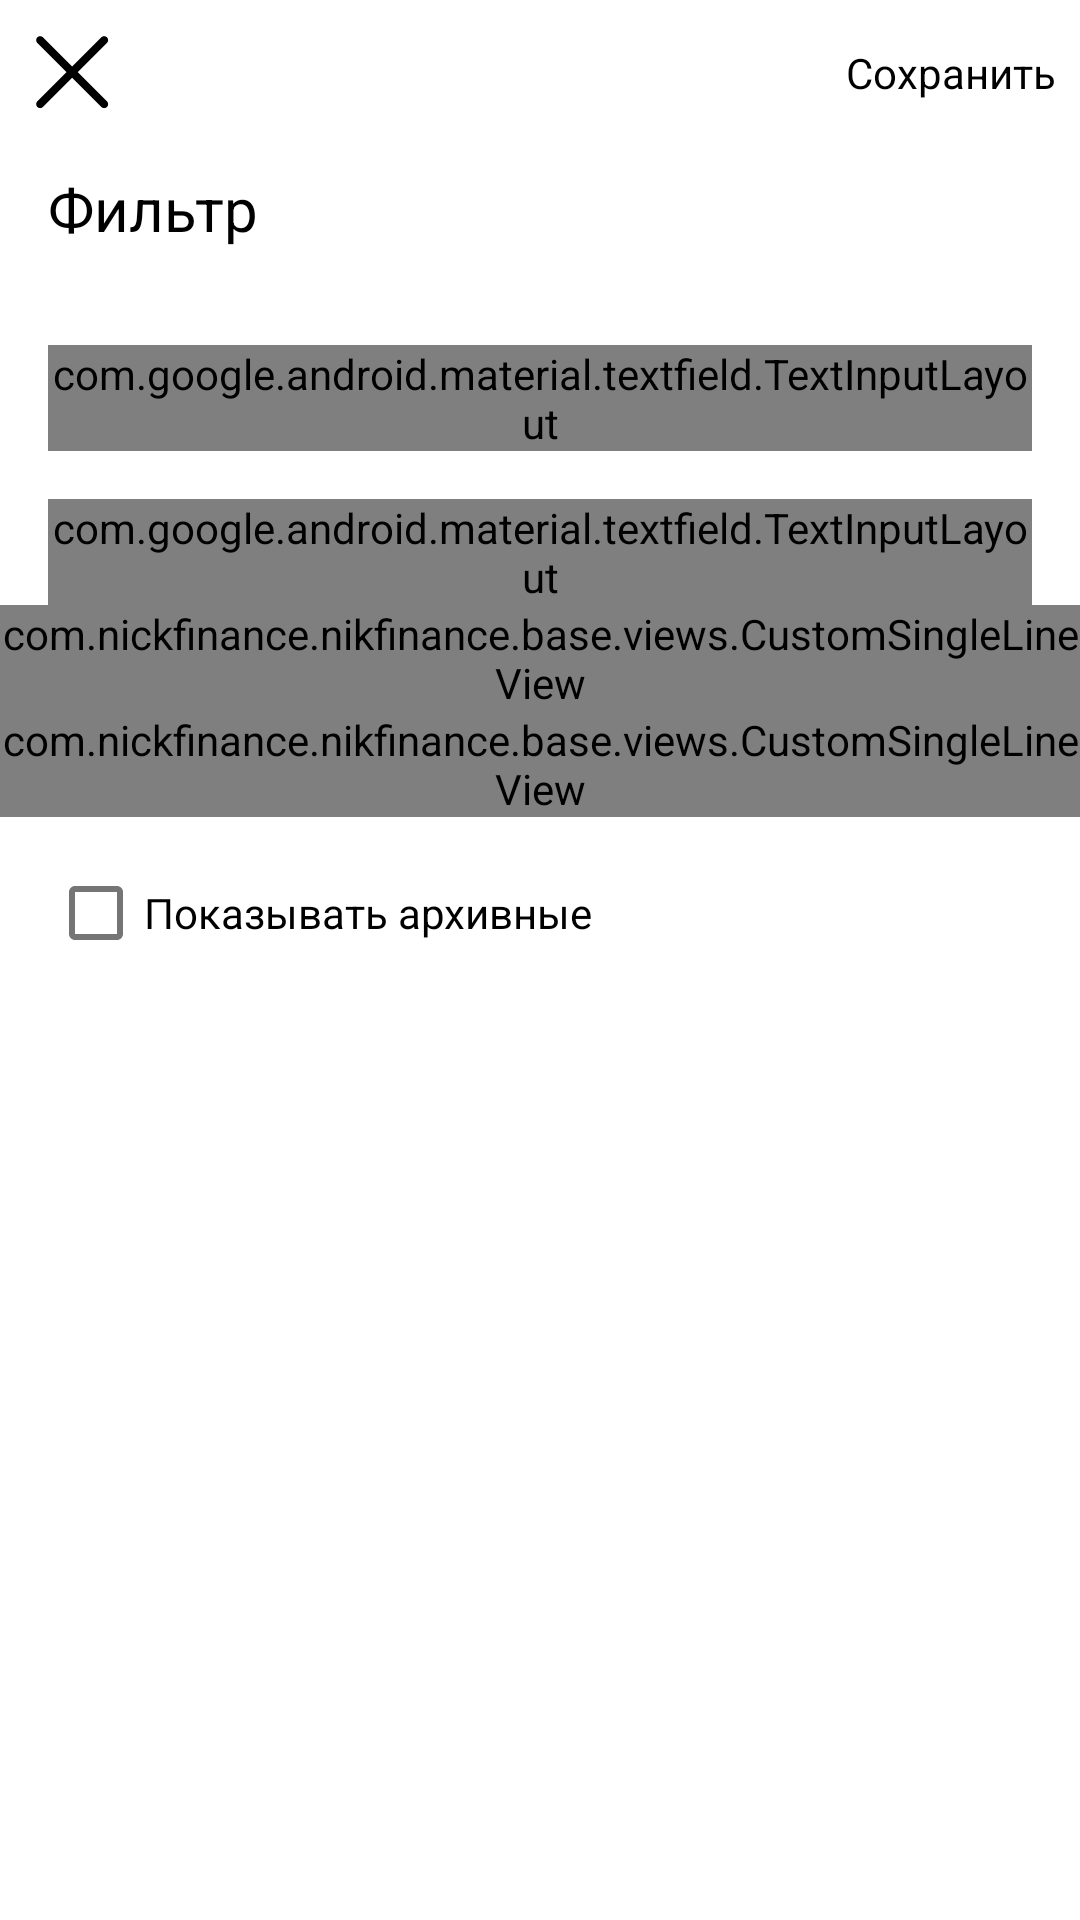

Screen size 1080*1920. Icon name, then its center in pixels as point (x, y):
close: point (72, 72)
